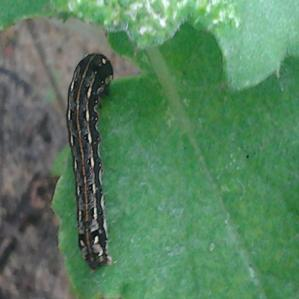Tobacco cutworm: (29, 34, 154, 268)
